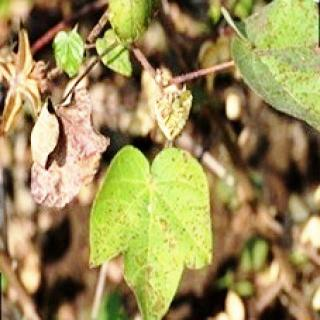leaf spot: (92, 211, 217, 320), (32, 88, 103, 204)
